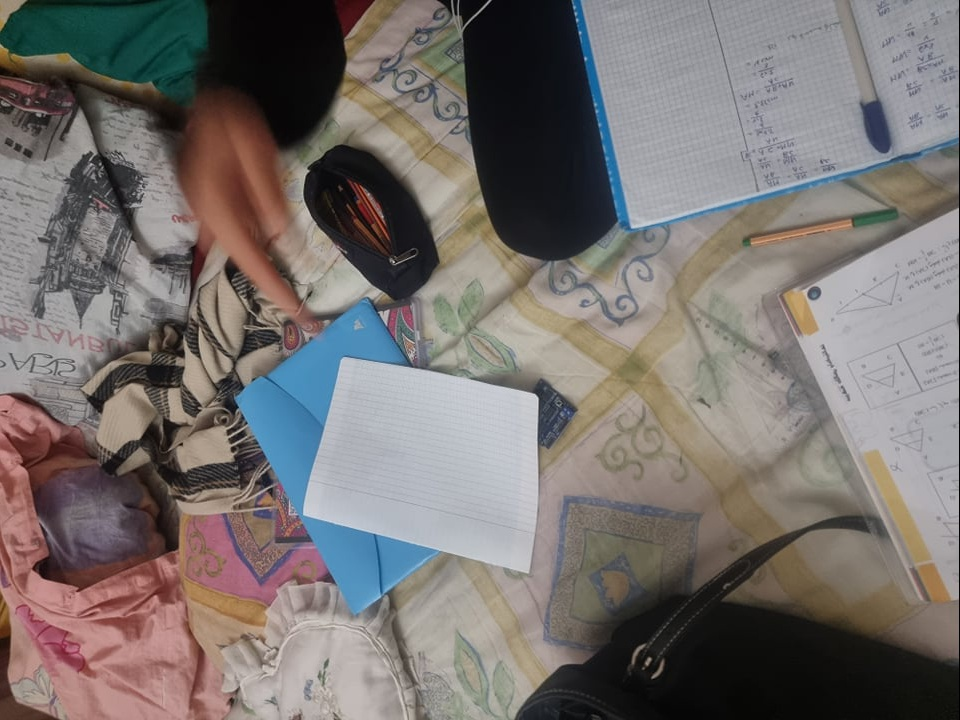5V EXPANSION: (528, 377, 578, 455)
